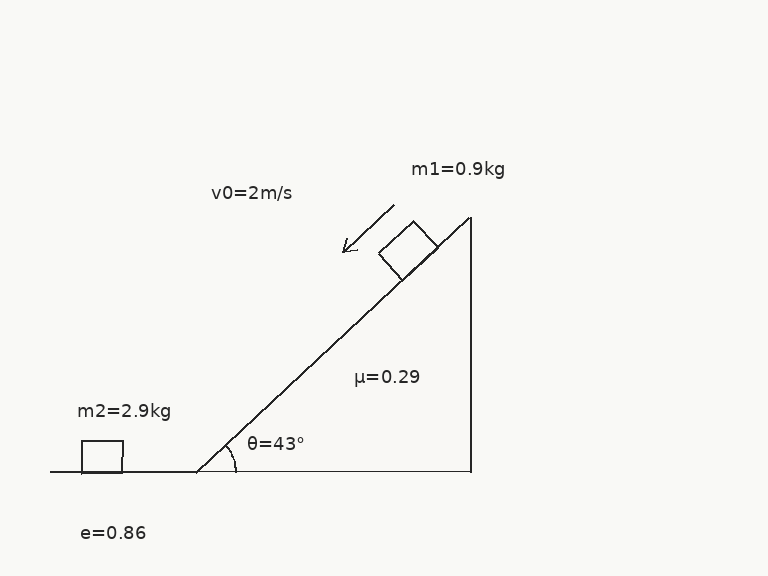block: (376, 218, 440, 282), (79, 439, 125, 474)
ramp: (194, 215, 472, 474)
